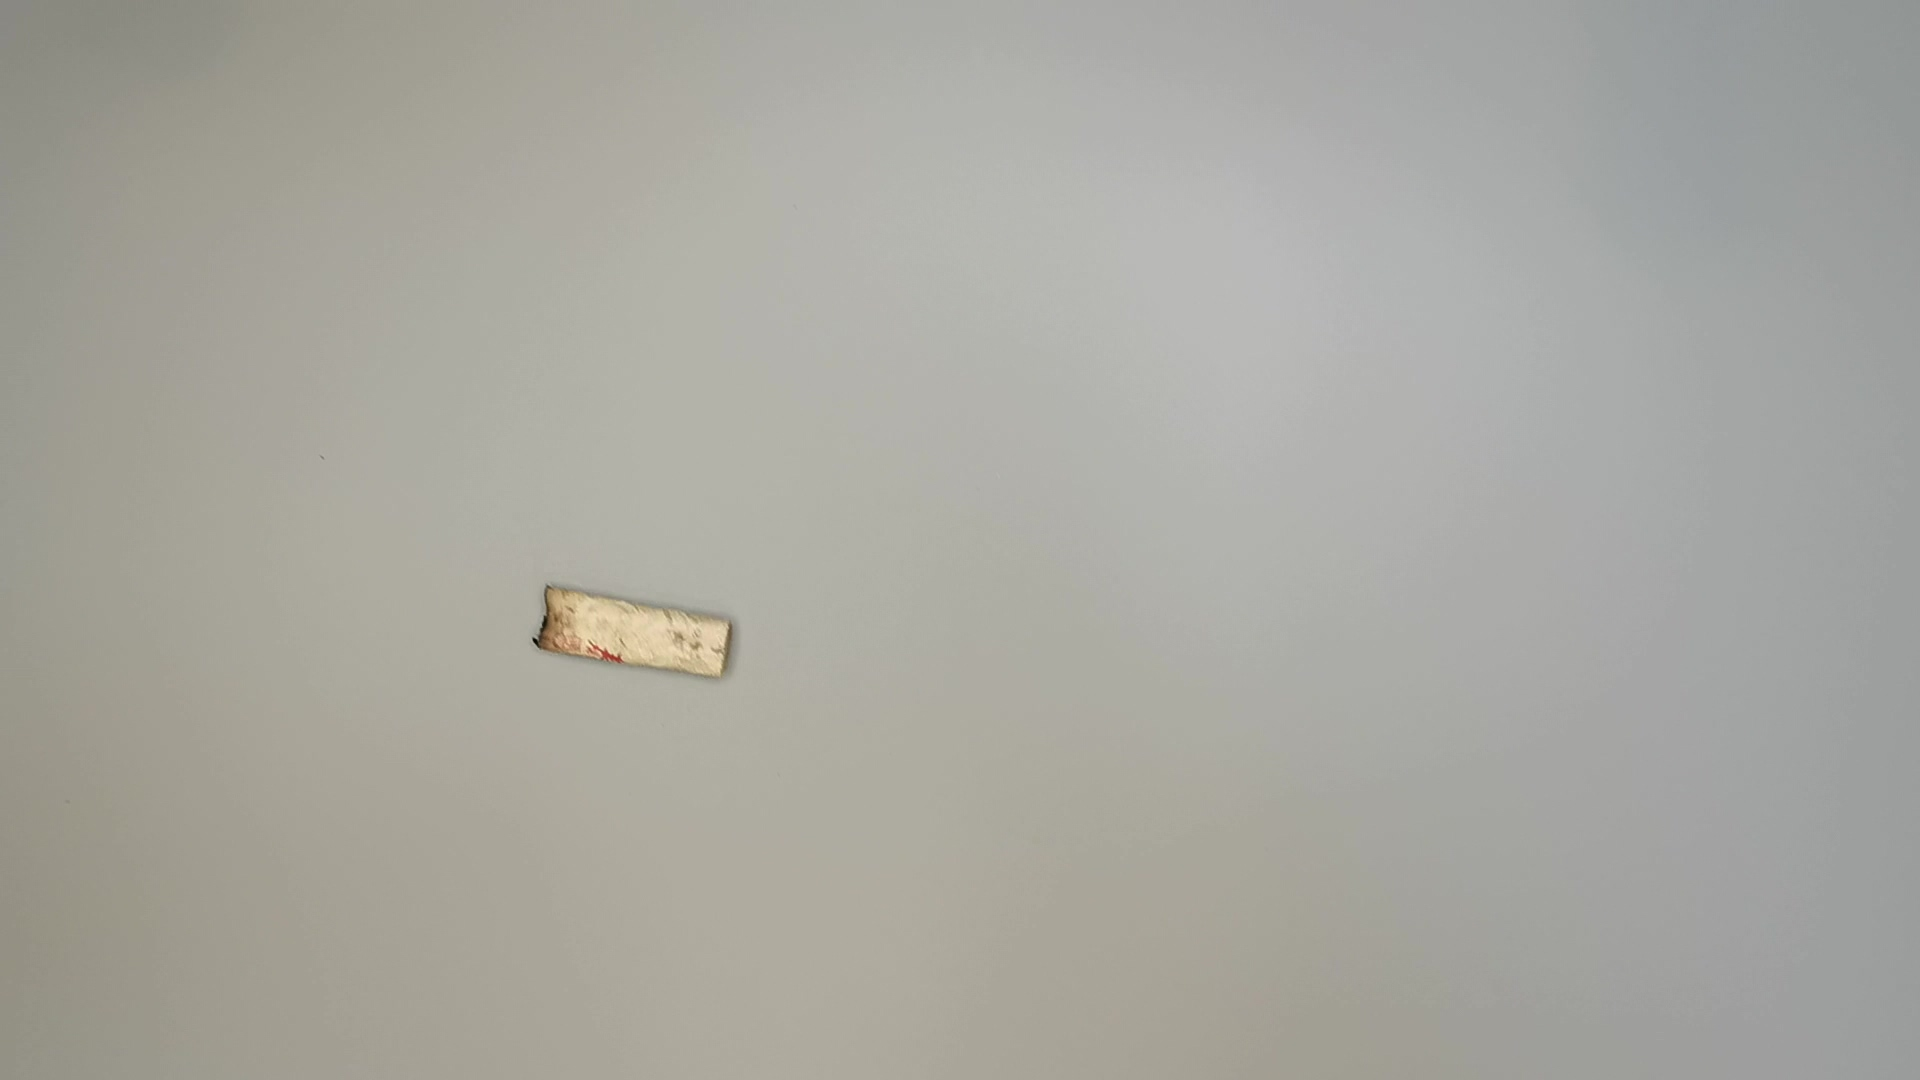cigarette: (526, 579, 742, 694)
